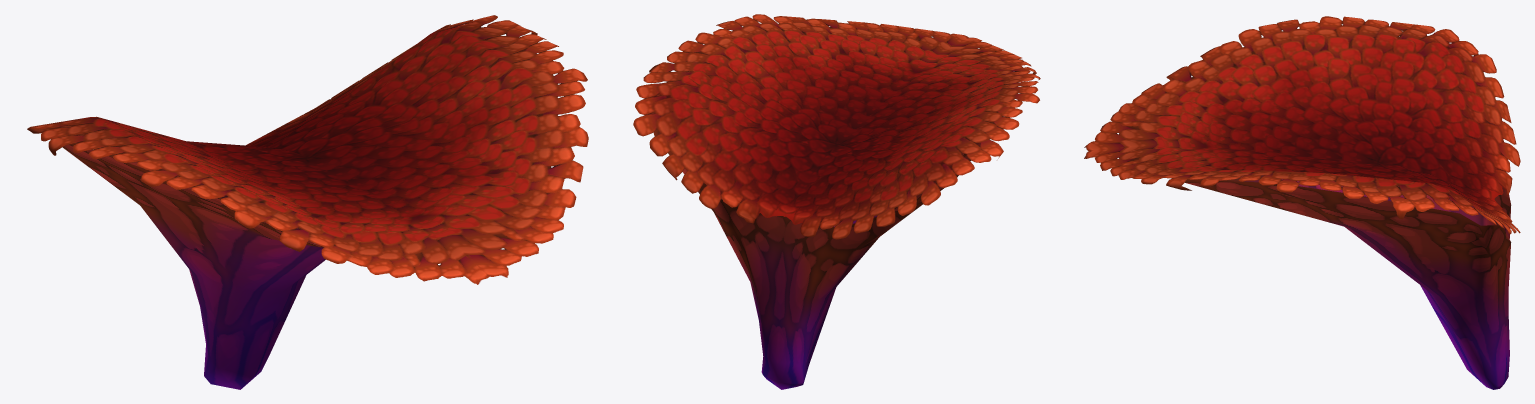
Rendered from Coral_22.FBX.
3 renders of one model, left to right at view 1: azimuth 30°, elevation 25°; view 2: azimuth 150°, elevation 25°; view 3: azimuth 270°, elevation 25°, orthographic. The views are drawn at different scales.
Visible parts, largest first — view 1: Coral_22; view 2: Coral_22; view 3: Coral_22.
Boxes of the visible parts, left/top/right/bottom form: Coral_22: left=27, top=15, right=588, bottom=389; Coral_22: left=633, top=14, right=1040, bottom=389; Coral_22: left=1084, top=16, right=1520, bottom=389.
Bounding box in the file's own units: 62.94 × 43.9 × 62.33.
